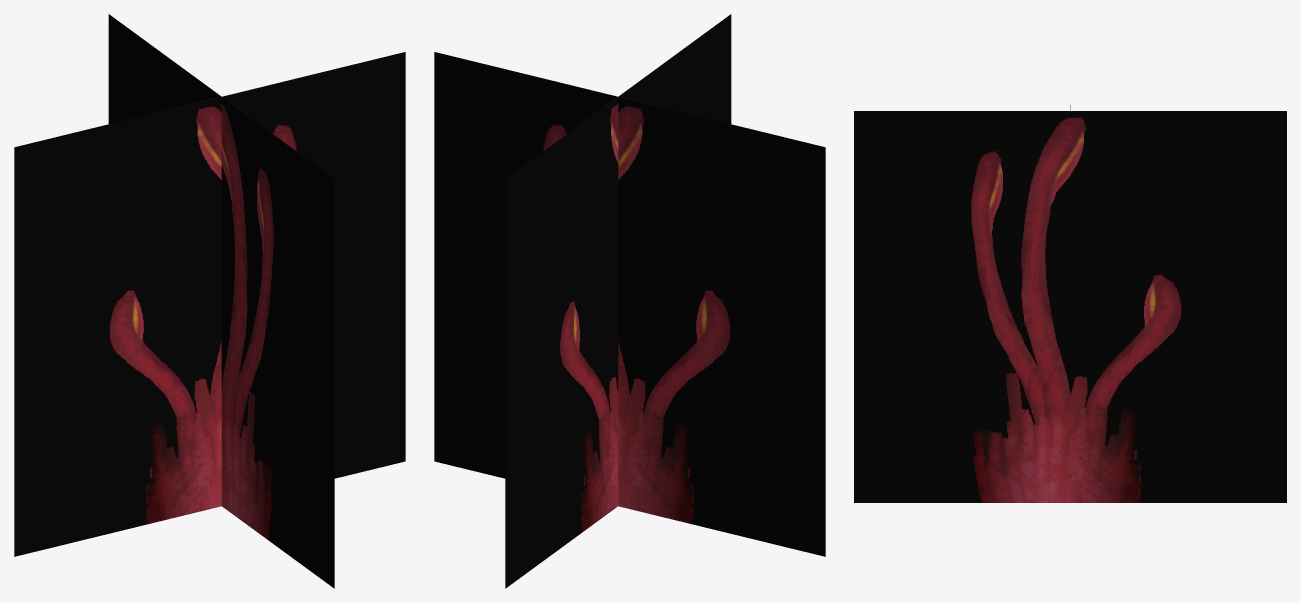
File: PlantQuad.fbx
3 views of the same model, side by side, from view 1: azimuth 30°, elevation 25°; view 2: azimuth 150°, elevation 25°; view 3: azimuth 270°, elevation 25° (orthographic). The views are drawn at different scales.
Visible parts, largest first — view 1: Plane; view 2: Plane; view 3: Plane.
Boxes of the visible parts, <box> form: Plane: <box>14,14,405,588</box>; Plane: <box>434,14,825,588</box>; Plane: <box>854,105,1286,502</box>.
Size of the model in its own units: 200 by 200 by 200.
